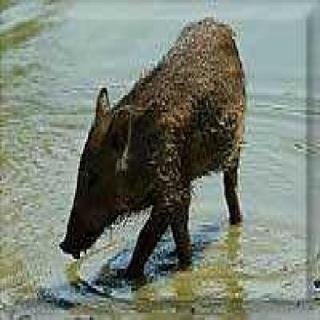Pig: (60, 5, 306, 272)
